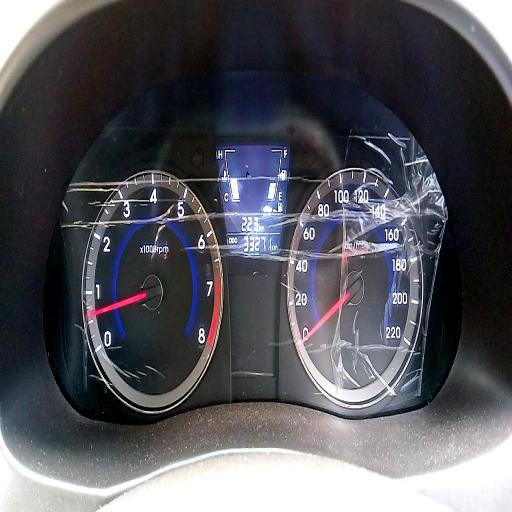tachometer: (83, 169, 223, 413)
